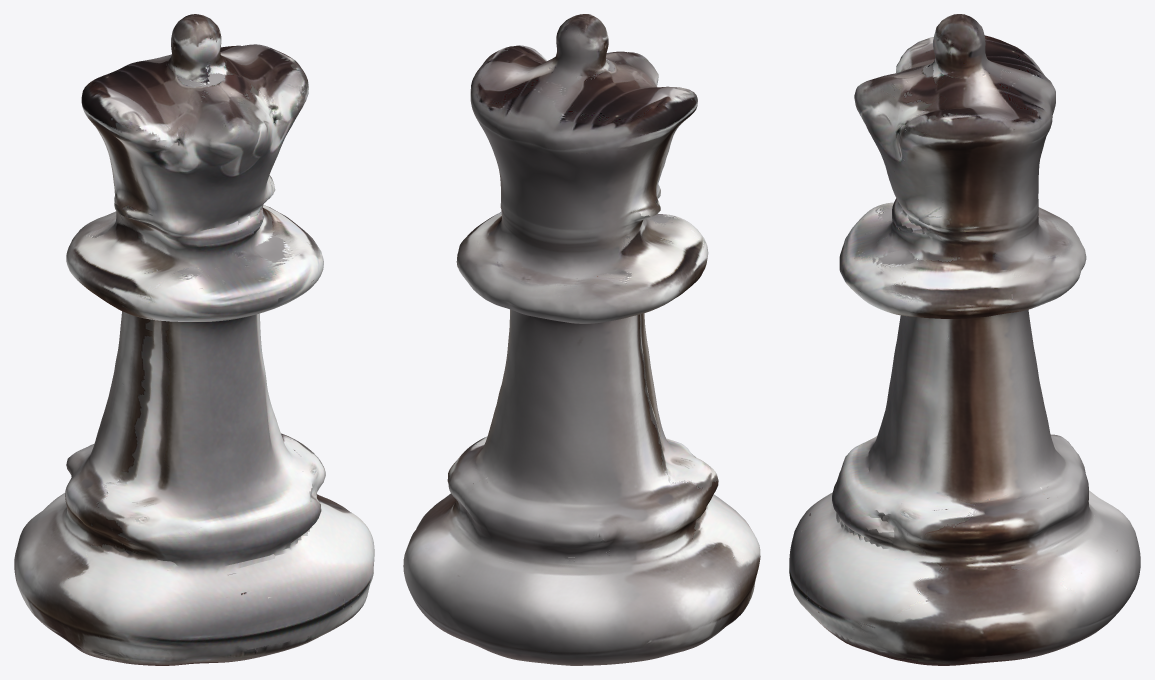
Rendered from QueenModel.fbx.
The picture shows the model from 3 angles, left to right: view 1: azimuth 30°, elevation 25°; view 2: azimuth 150°, elevation 25°; view 3: azimuth 270°, elevation 25°; orthographic projection.
Parts seen in each view (by area): view 1: A simple King fo obj-re_2hIEkKdH5FFc4KSqgIUmem4fe1A; view 2: A simple King fo obj-re_2hIEkKdH5FFc4KSqgIUmem4fe1A; view 3: A simple King fo obj-re_2hIEkKdH5FFc4KSqgIUmem4fe1A.
Boxes of the visible parts, box(x1,y1,x2,y2) form: A simple King fo obj-re_2hIEkKdH5FFc4KSqgIUmem4fe1A: box(14, 14, 374, 665); A simple King fo obj-re_2hIEkKdH5FFc4KSqgIUmem4fe1A: box(403, 14, 760, 665); A simple King fo obj-re_2hIEkKdH5FFc4KSqgIUmem4fe1A: box(789, 14, 1140, 665).
Size of the model in its own units: 70.94 by 131 by 70.34.
Materials: 1 (1 with a texture image).
